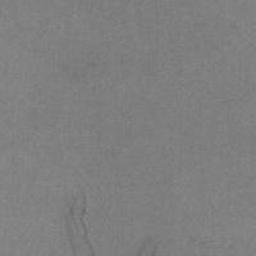Inclusion: (60, 191, 96, 256), (132, 234, 161, 256)
